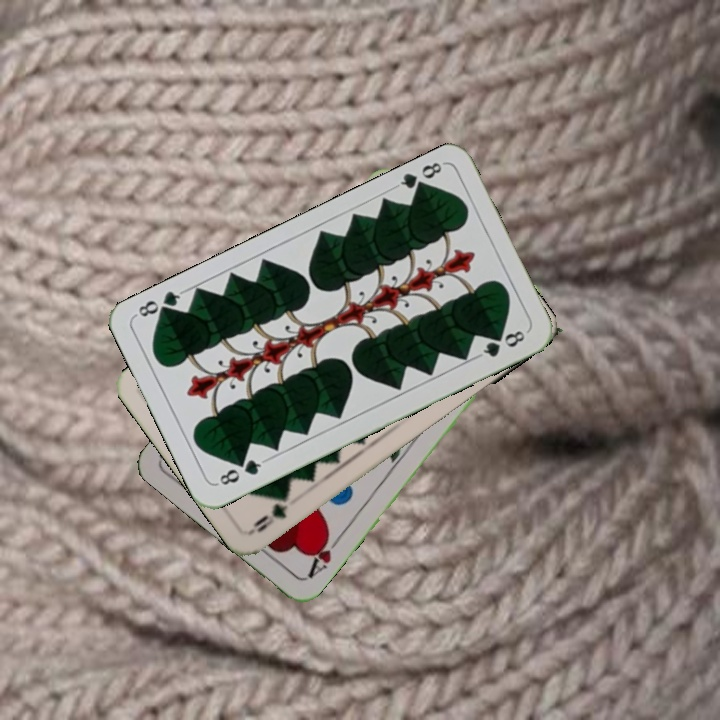G8: (391, 157, 447, 197), (213, 455, 268, 488)
G9: (247, 490, 292, 536)
HA: (303, 529, 345, 581)
